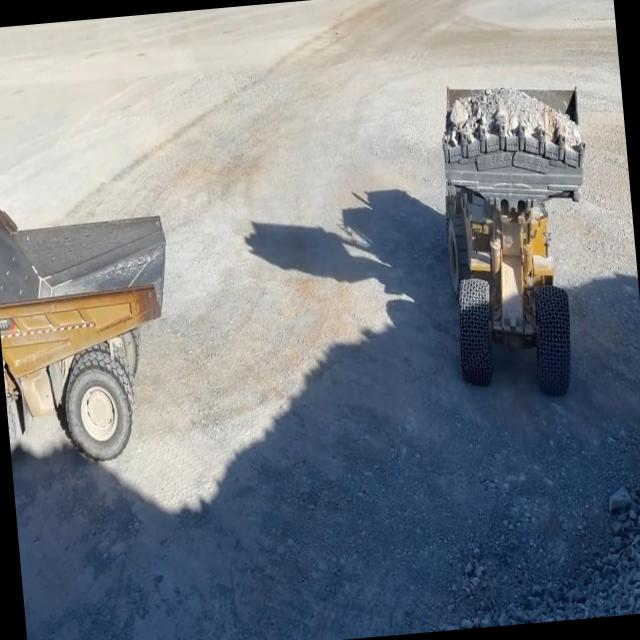Camion volquete: (0, 183, 195, 479)
pala cargadora: (428, 69, 610, 415)
